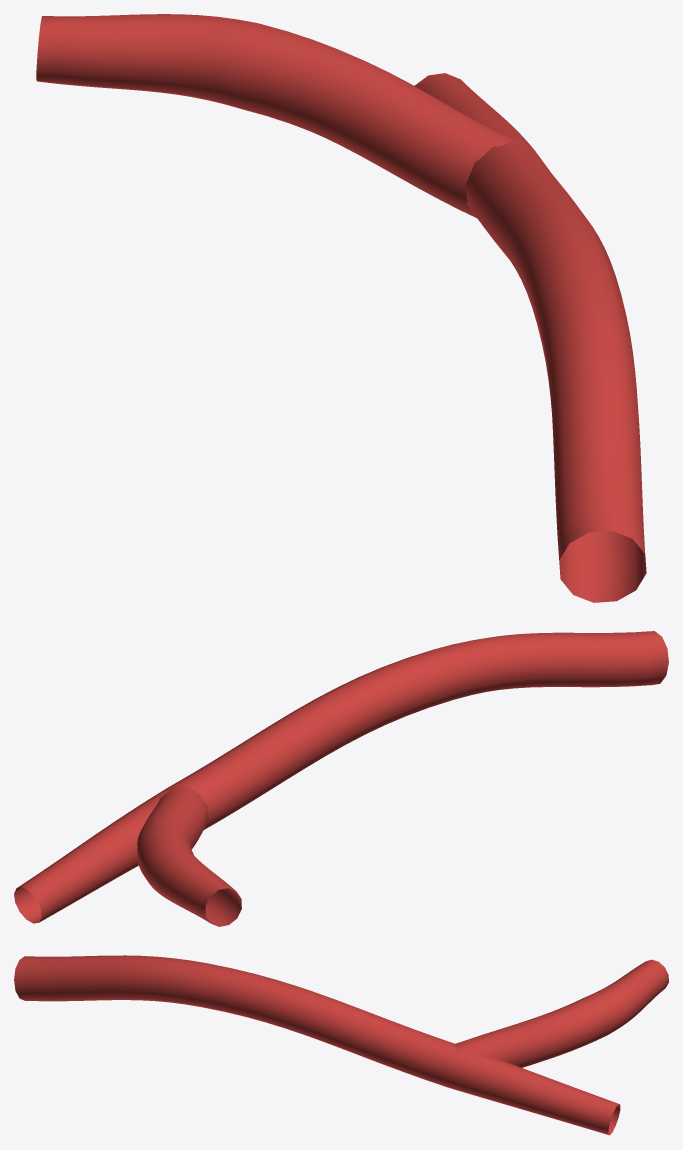
3 views of the same model, one above another, from view 1: azimuth 30°, elevation 25°; view 2: azimuth 150°, elevation 25°; view 3: azimuth 270°, elevation 25° (orthographic). The views are drawn at different scales.
Parts seen in each view (by area): view 1: 右肺内侧底段动脉; view 2: 右肺内侧底段动脉; view 3: 右肺内侧底段动脉.
Part boxes in pixels (x1,y1,x2,y2): 右肺内侧底段动脉: [36, 14, 646, 602]; 右肺内侧底段动脉: [14, 631, 668, 926]; 右肺内侧底段动脉: [14, 955, 668, 1135].
Bounding box in the file's own units: 0.0371 × 0.0152 × 0.0864.
